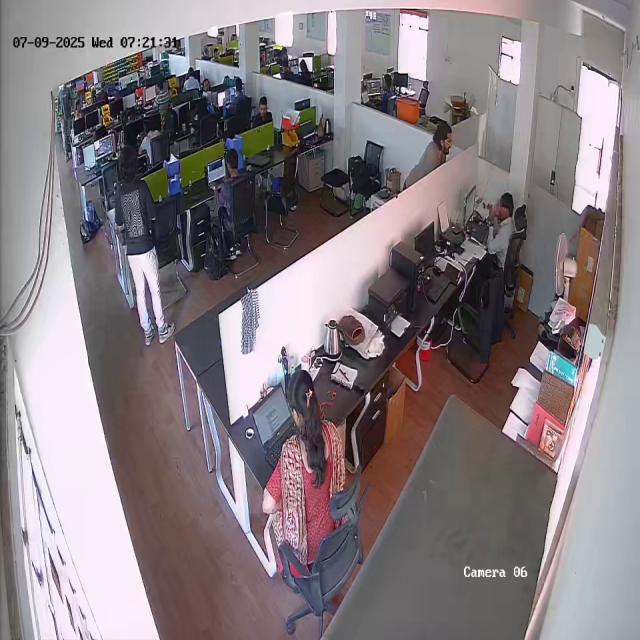person: (264, 366, 343, 546), (109, 144, 167, 348), (484, 192, 516, 254)
